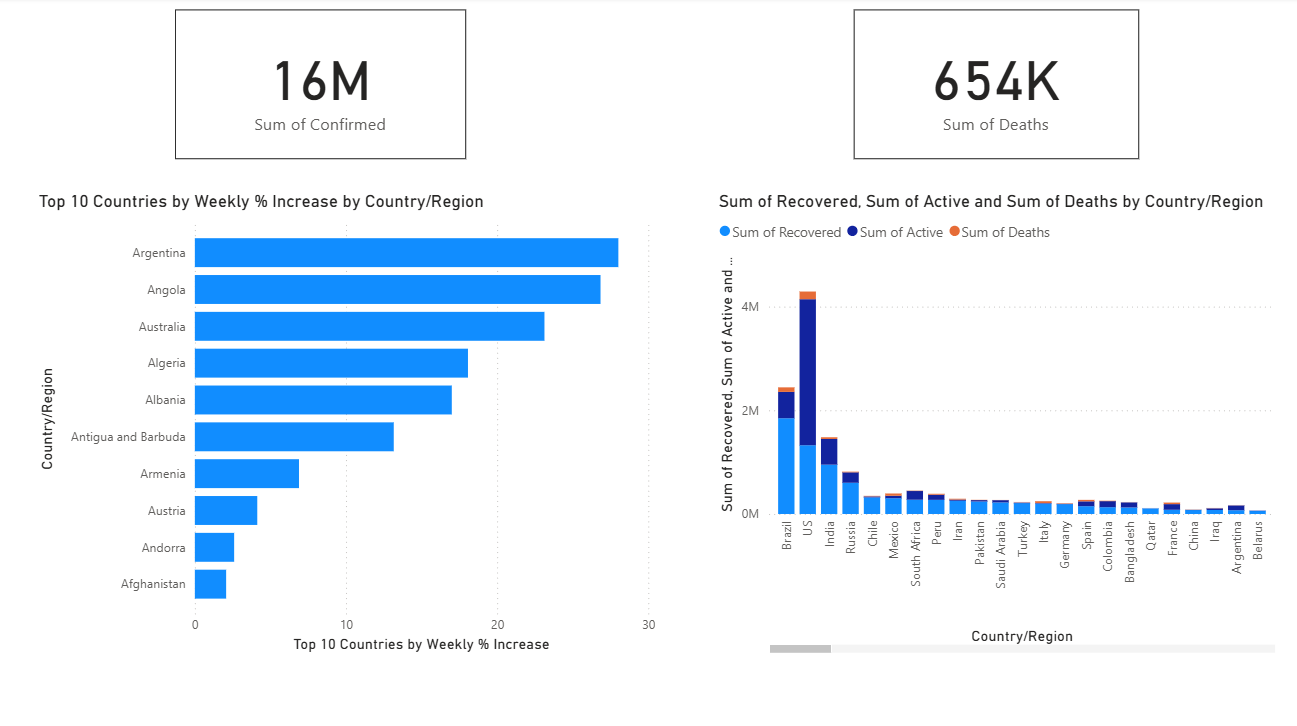

This screenshot's page, from the dashboard's own definition file:
{"tool":"powerbi","page":{"name":"Page 3","canvas":[1280,720],"ordinal":2},"visuals":[{"type":"clusteredBarChart","fields":{"Category":["country_wise_latest.Country/Region"],"Y":["Sum(country_wise_latest.1 week % increase)"]},"box":[38.4,189.4,613.4,456.9],"z":0},{"type":"columnChart","fields":{"Category":["country_wise_latest.Country/Region"],"Y":["Sum(country_wise_latest.Recovered)","Sum(country_wise_latest.Active)","Sum(country_wise_latest.Deaths)"]},"box":[702.6,189.4,554.4,456.9],"z":1000},{"type":"card","fields":{"Values":["Sum(country_wise_latest.Confirmed)"]},"box":[176.1,12.2,284.9,146.7],"z":1001},{"type":"card","fields":{"Values":["Sum(country_wise_latest.Deaths)"]},"box":[840.1,12.2,278.8,146.7],"z":1002}]}

Visuals, with their boxes in screenshot pixels (x1, y1, x2, y2), scaled from the page's 1280x720 canvas onto the 1297x726 screenshot:
clusteredBarChart - country_wise_latest.Country/Region x Sum(country_wise_latest.1 week % increase): 39, 191, 660, 652
columnChart - country_wise_latest.Country/Region x Sum(country_wise_latest.Recovered): 712, 191, 1274, 652
card - Sum(country_wise_latest.Confirmed): 178, 12, 467, 160
card - Sum(country_wise_latest.Deaths): 851, 12, 1134, 160
